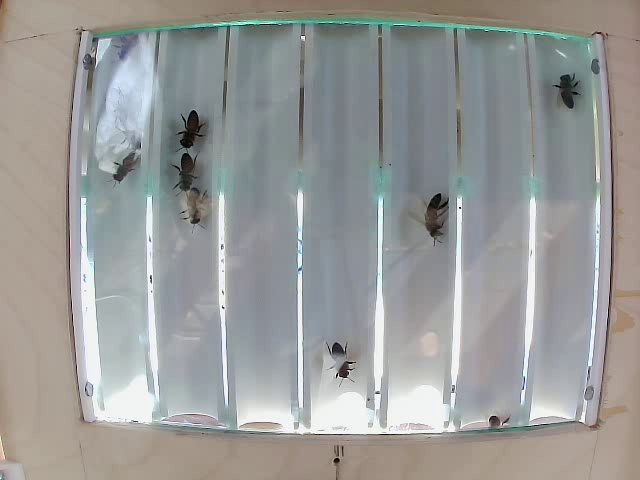bee: (418, 187, 451, 242), (323, 337, 360, 384), (181, 114, 214, 154), (173, 151, 200, 192), (553, 68, 581, 104), (111, 155, 139, 187), (185, 188, 209, 225), (118, 35, 137, 65), (490, 407, 503, 433)
